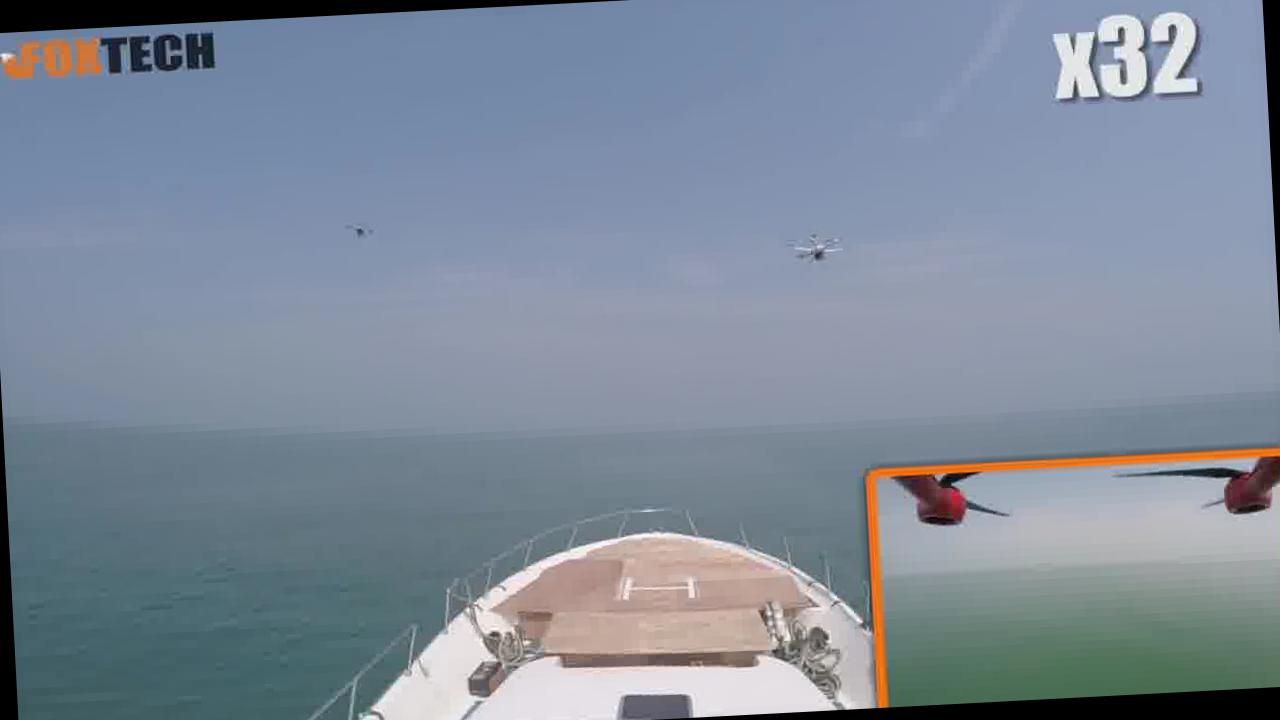drone: (771, 219, 860, 286), (334, 204, 392, 262)
